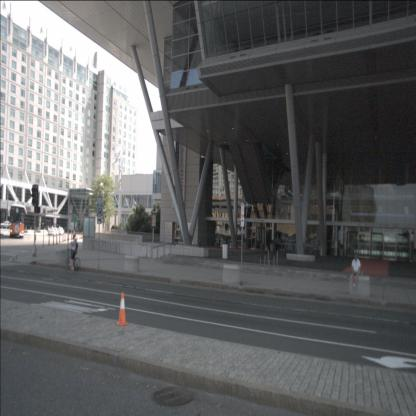cone: (116, 292, 129, 326)
